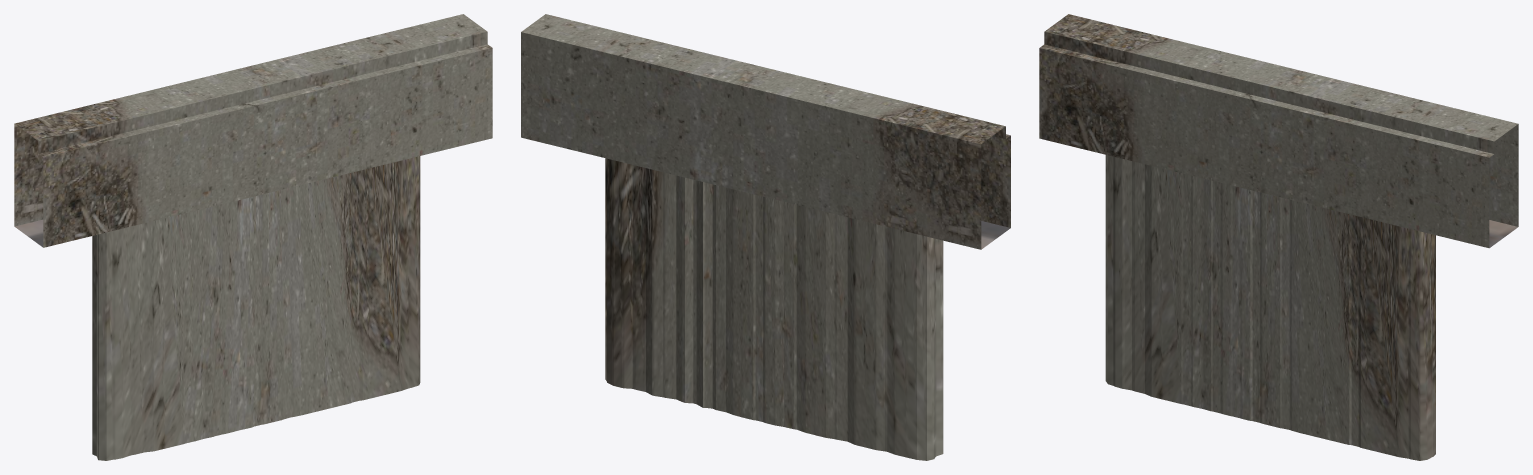
The model's file is corridor_cracked_right.fbx.
The picture shows the model from 3 angles, left to right: view 1: azimuth 30°, elevation 25°; view 2: azimuth 150°, elevation 25°; view 3: azimuth 330°, elevation 25°; orthographic projection. The views are drawn at different scales.
Visible parts, largest first — view 1: Cube.011; view 2: Cube.011; view 3: Cube.011.
Boxes of the visible parts, box(x1,y1,x2,y2) form: Cube.011: box(14, 14, 492, 460); Cube.011: box(521, 14, 1010, 460); Cube.011: box(1039, 14, 1518, 460).
Bounding box in the file's own units: 3594 × 2555 × 403.
Materials: 2 (2 with a texture image).
